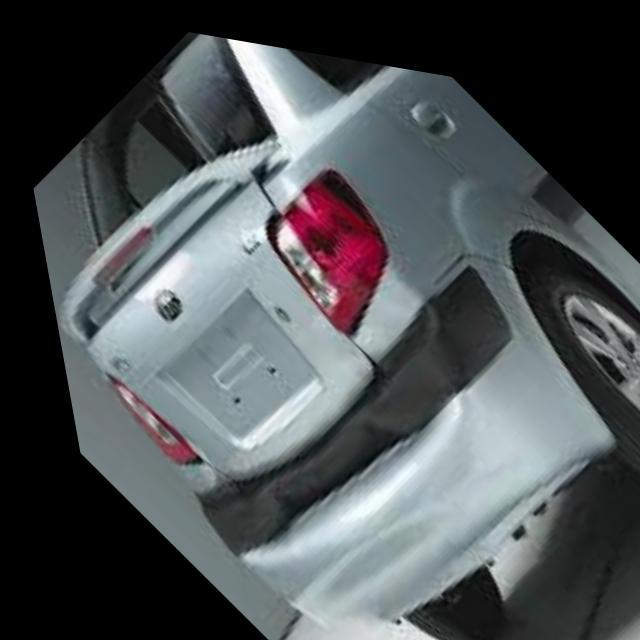dent: (206, 270, 452, 540)
